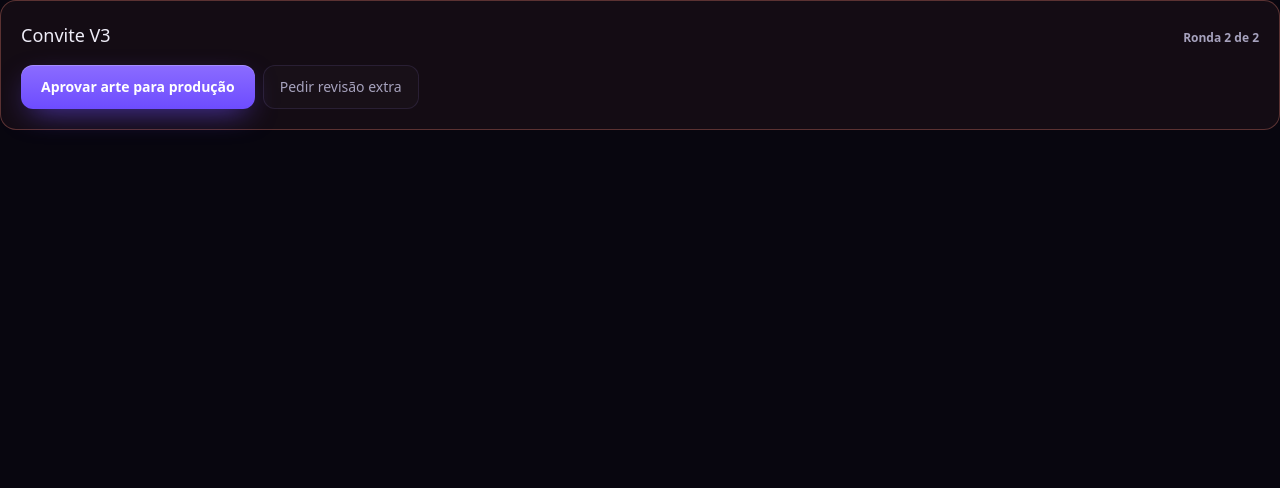
Test: ApprovalCard — arte para produção › o botão diz 'Aprovar arte para produção' e a confirmação repete o que fica fixo
Click the button "Aprovar arte para produção". click: click(138, 87)
box: [21,65,255,109]
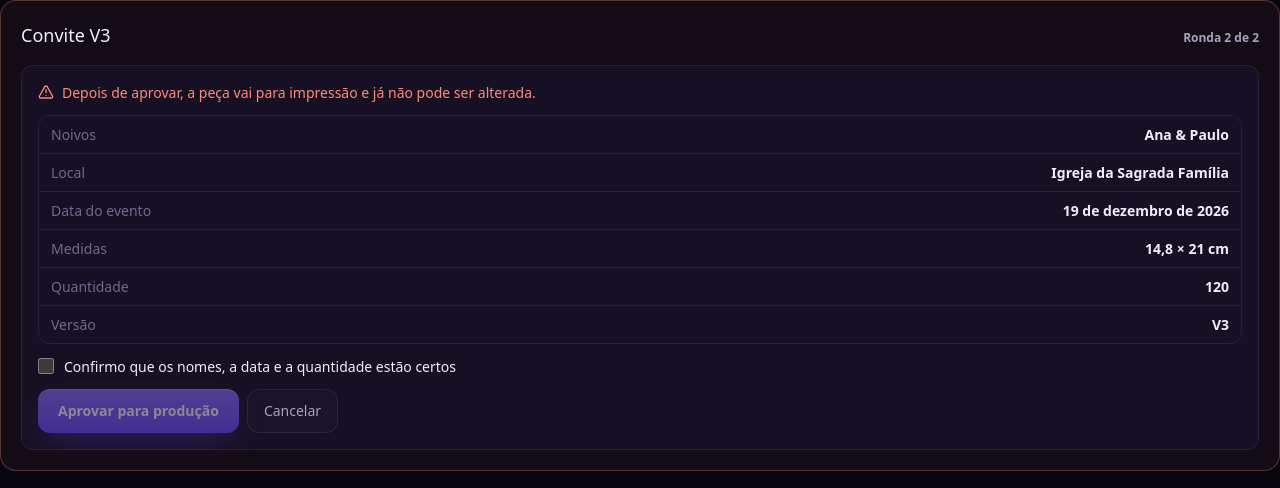
Check: the text "a peça vai para impressão e já não pode ser alterada" is shown, box [62,83,536,102]
Check: the text "Ana & Paulo" is shown, box [1144,124,1229,145]
Check: the text "Igreja da Sagrada Família" is shown, box [1051,162,1229,183]
